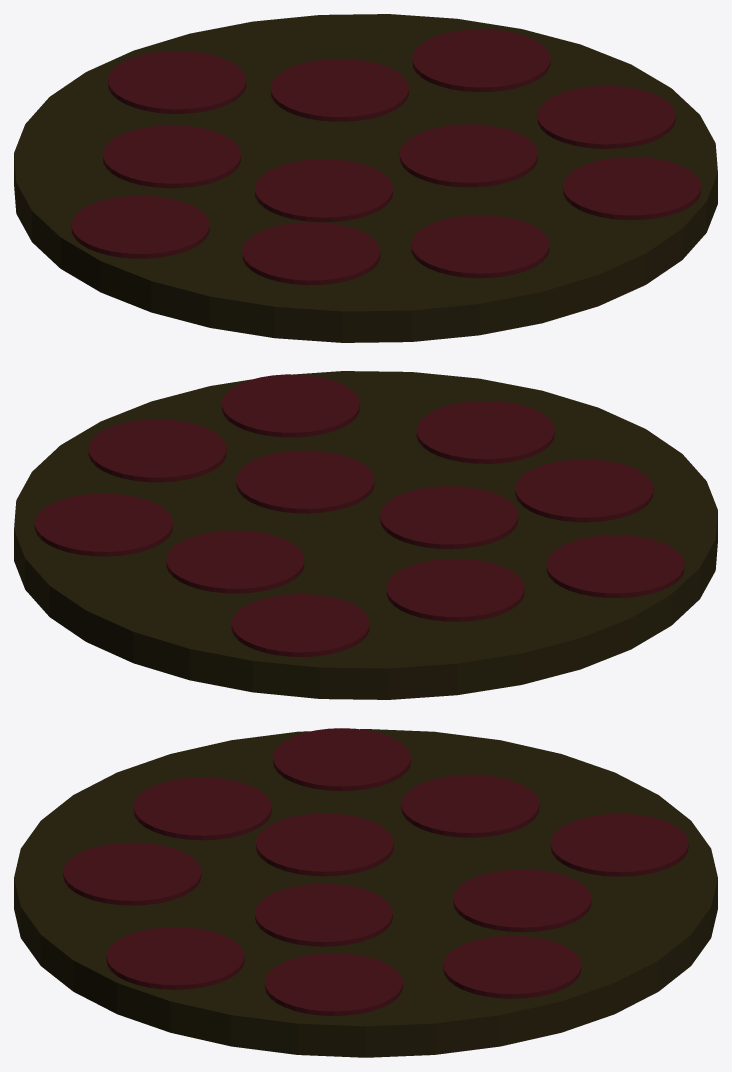
The model's file is pizza_v3.glb.
3 views of the same model, one above another, from view 1: azimuth 30°, elevation 25°; view 2: azimuth 150°, elevation 25°; view 3: azimuth 270°, elevation 25° (orthographic).
Visible parts, largest first — view 1: Cylinder, Cylinder.011, Cylinder.003, Cylinder.009, Cylinder.007, Cylinder.002, Cylinder.001, Cylinder.005, Cylinder.008, Cylinder.006, Cylinder.004, Cylinder.010; view 2: Cylinder, Cylinder.001, Cylinder.007, Cylinder.005, Cylinder.006, Cylinder.011, Cylinder.003, Cylinder.002, Cylinder.004, Cylinder.008, Cylinder.010, Cylinder.009; view 3: Cylinder, Cylinder.009, Cylinder.001, Cylinder.002, Cylinder.008, Cylinder.010, Cylinder.011, Cylinder.005, Cylinder.006, Cylinder.004, Cylinder.007, Cylinder.003.
Part boxes in pixels (x1=…): Cylinder: x1=14, y1=14, x2=717, y2=342; Cylinder.011: x1=399, y1=124, x2=537, y2=187; Cylinder.003: x1=71, y1=195, x2=209, y2=258; Cylinder.009: x1=411, y1=215, x2=549, y2=278; Cylinder.007: x1=537, y1=86, x2=675, y2=148; Cylinder.002: x1=103, y1=125, x2=240, y2=188; Cylinder.001: x1=242, y1=222, x2=380, y2=285; Cylinder.005: x1=412, y1=29, x2=550, y2=92; Cylinder.008: x1=255, y1=159, x2=392, y2=222; Cylinder.006: x1=270, y1=58, x2=408, y2=121; Cylinder.004: x1=108, y1=51, x2=246, y2=113; Cylinder.010: x1=563, y1=157, x2=700, y2=220; Cylinder: x1=14, y1=371, x2=717, y2=699; Cylinder.001: x1=515, y1=459, x2=653, y2=522; Cylinder.007: x1=88, y1=419, x2=226, y2=482; Cylinder.005: x1=34, y1=493, x2=172, y2=556; Cylinder.006: x1=166, y1=530, x2=304, y2=593; Cylinder.011: x1=236, y1=450, x2=374, y2=513; Cylinder.003: x1=546, y1=535, x2=684, y2=597; Cylinder.002: x1=386, y1=558, x2=524, y2=621; Cylinder.004: x1=231, y1=594, x2=369, y2=656; Cylinder.008: x1=380, y1=486, x2=518, y2=548; Cylinder.010: x1=222, y1=374, x2=359, y2=437; Cylinder.009: x1=416, y1=401, x2=554, y2=463; Cylinder: x1=14, y1=729, x2=717, y2=1057; Cylinder.009: x1=63, y1=842, x2=201, y2=905; Cylinder.001: x1=133, y1=777, x2=271, y2=840; Cylinder.002: x1=401, y1=774, x2=539, y2=837; Cylinder.008: x1=256, y1=813, x2=393, y2=876; Cylinder.010: x1=106, y1=927, x2=244, y2=989; Cylinder.011: x1=255, y1=883, x2=392, y2=946; Cylinder.005: x1=443, y1=935, x2=581, y2=998; Cylinder.006: x1=453, y1=869, x2=591, y2=932; Cylinder.004: x1=550, y1=813, x2=688, y2=876; Cylinder.007: x1=265, y1=953, x2=402, y2=1015; Cylinder.003: x1=273, y1=728, x2=410, y2=791.
Size of the model in its own units: 2 by 0.113 by 2.
